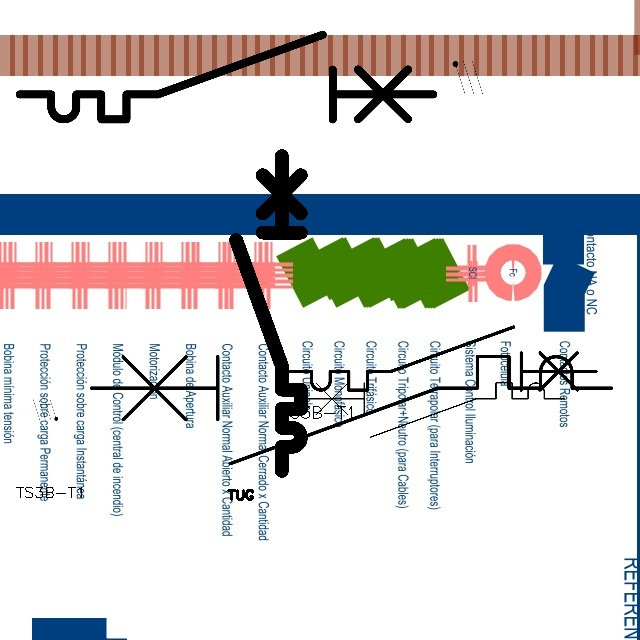interruptor_termomagnetico: (77, 343, 624, 477), (9, 24, 443, 130), (228, 148, 309, 479), (280, 319, 604, 398), (293, 376, 571, 444)
